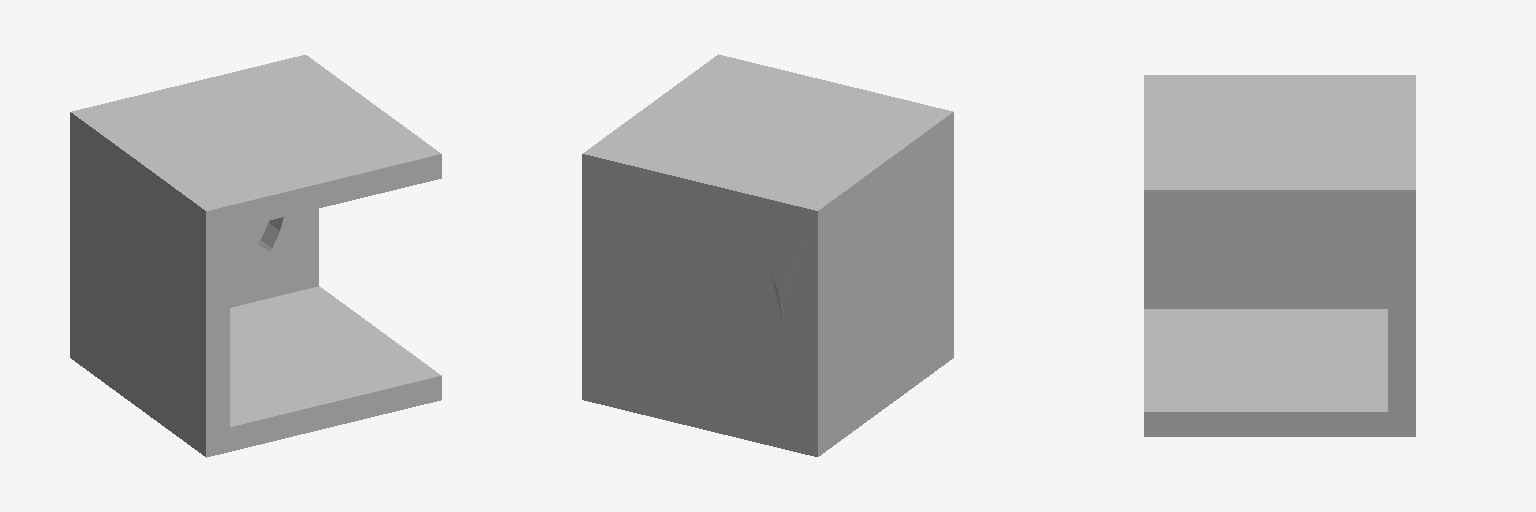
File: end.obj
The picture shows the model from 3 angles: view 1: azimuth 30°, elevation 25°; view 2: azimuth 150°, elevation 25°; view 3: azimuth 270°, elevation 25°; orthographic projection.
Parts seen in each view (by area): view 1: Cube_Cube.001; view 2: Cube_Cube.001; view 3: Cube_Cube.001.
Part boxes in pixels (x1,y1,x2,y2): Cube_Cube.001: (70, 55, 441, 457); Cube_Cube.001: (582, 54, 953, 456); Cube_Cube.001: (1144, 75, 1415, 436).
Bounding box in the file's own units: 2 × 2 × 2.